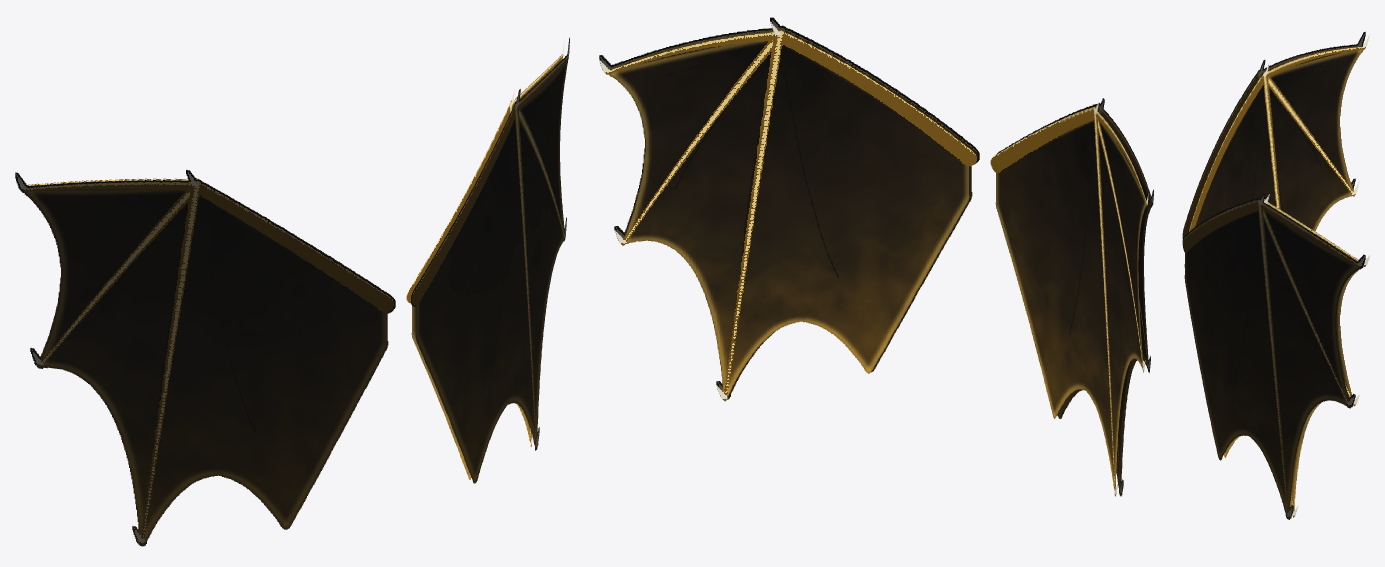
The model's file is gilded_dragon_wings.glb.
3 views of the same model, side by side, from view 1: azimuth 30°, elevation 25°; view 2: azimuth 150°, elevation 25°; view 3: azimuth 270°, elevation 25° (orthographic). The views are drawn at different scales.
Parts seen in each view (by area): view 1: Gilded Dragon Wings Wing Right, Gilded Dragon Wings Wing Left; view 2: Gilded Dragon Wings Wing Left, Gilded Dragon Wings Wing Right; view 3: Gilded Dragon Wings Wing Left, Gilded Dragon Wings Wing Right.
Boxes of the visible parts, box(x1,y1,x2,y2) form: Gilded Dragon Wings Wing Right: box(15, 168, 395, 546); Gilded Dragon Wings Wing Left: box(406, 37, 569, 483); Gilded Dragon Wings Wing Left: box(599, 17, 979, 401); Gilded Dragon Wings Wing Right: box(990, 98, 1153, 496); Gilded Dragon Wings Wing Left: box(1182, 193, 1370, 519); Gilded Dragon Wings Wing Right: box(1182, 31, 1370, 267).
Size of the model in its own units: 2.3 by 1.51 by 0.8184.
Materials: 2 (2 with a texture image).
